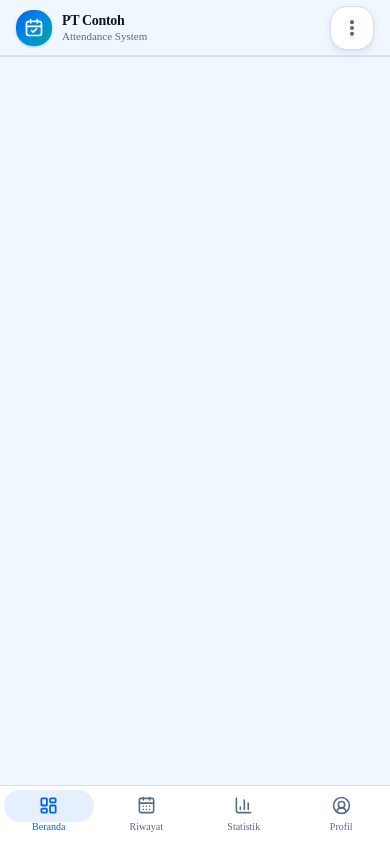
Scenario: overflow menu › closes itself when the route changes
The width and height of the screenshot is (390, 844).
Click the button named "Buka menu" at [352, 28], box [330,6,374,50]
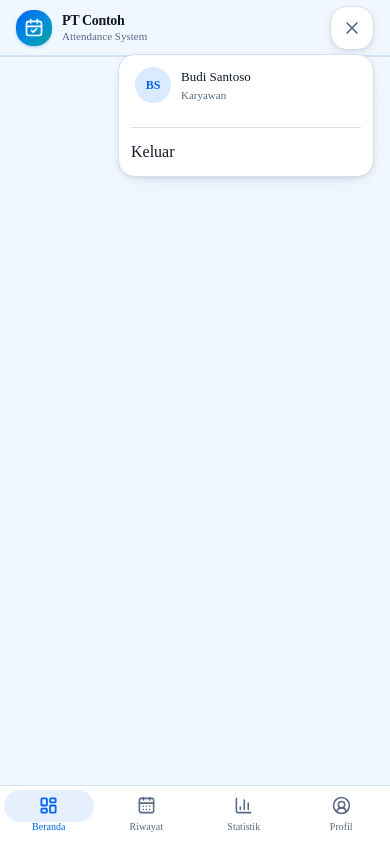
Expected: the menu is shown, [118,54,374,177]
